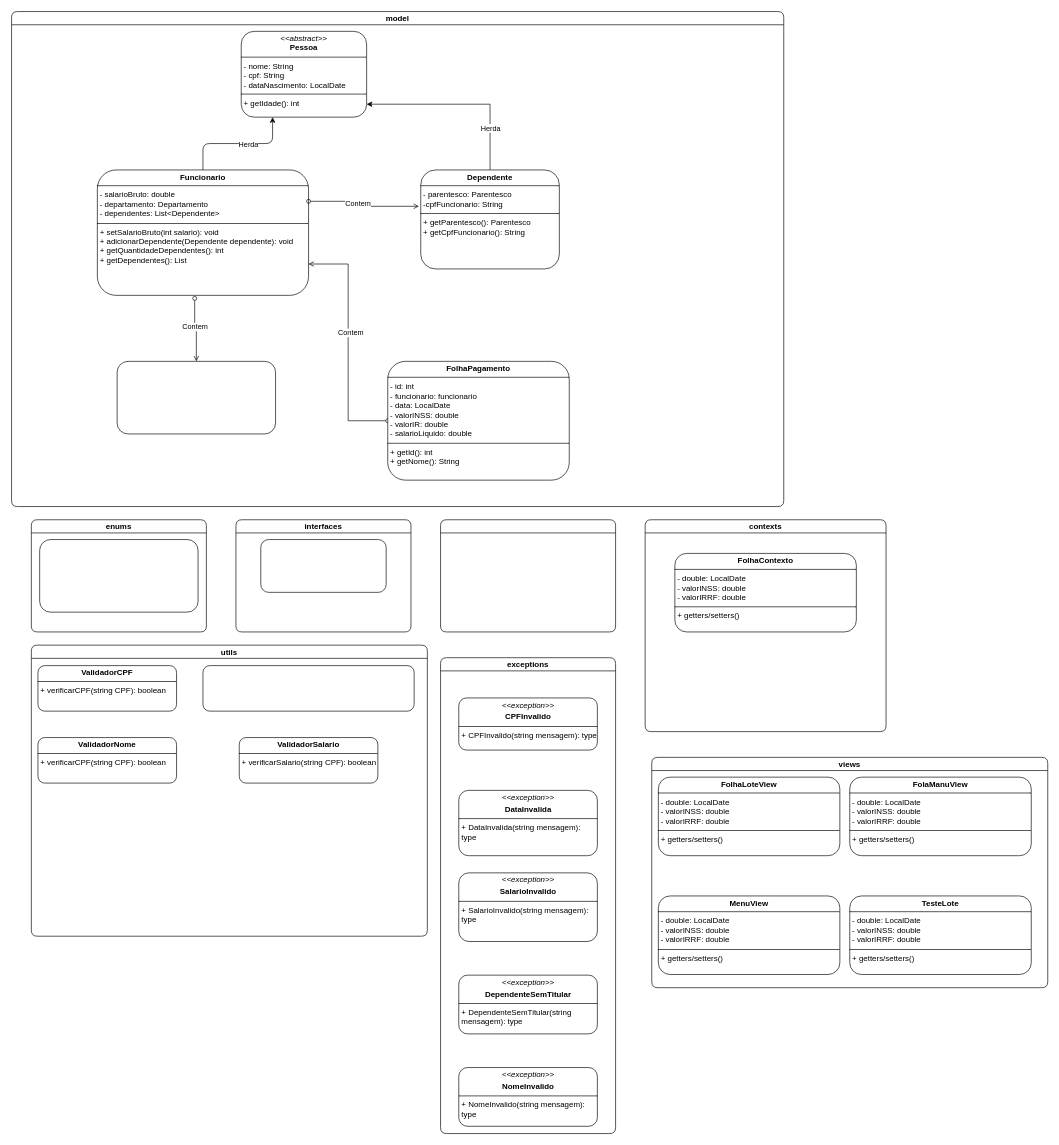
This 1059x1145 diagram has some shape labels left out. Here are the shapes that lost their labels. From the top down, the centre of each, then its label:
At [196,397]: "Departamento - id: double - nome: String + getId(): int + getNome(): String".
At [118,575]: "Parentesco - PAIS, FILHOS, CONJUGE, OUTROS".
At [323,565]: "<<interface>> CalcularImposto + calcularImposto(): double".
At [528,575]: "service".
At [308,688]: "ValidadorDependente + verificarDependente(Dependente dependente): boolean".
